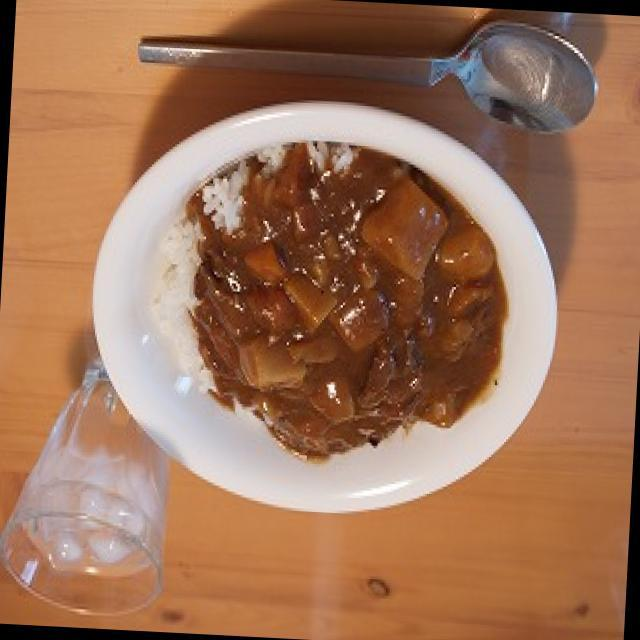Beef Curry: (148, 139, 514, 484)
